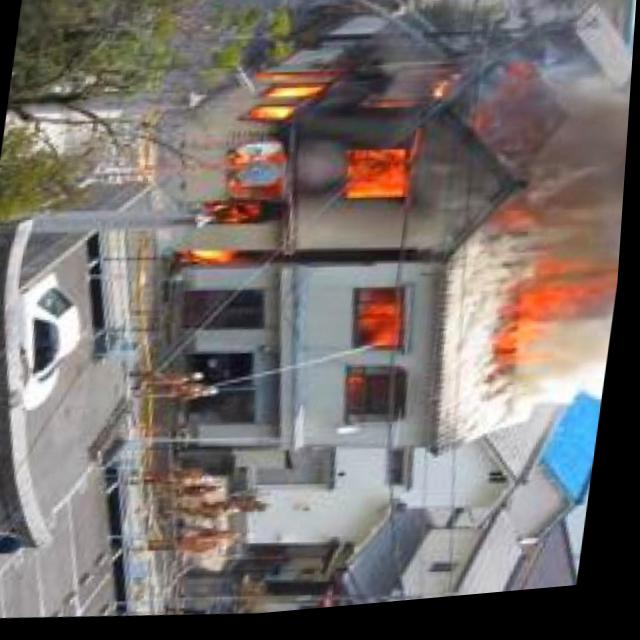Fire: (178, 46, 452, 287), (499, 236, 625, 399), (342, 288, 407, 417)
